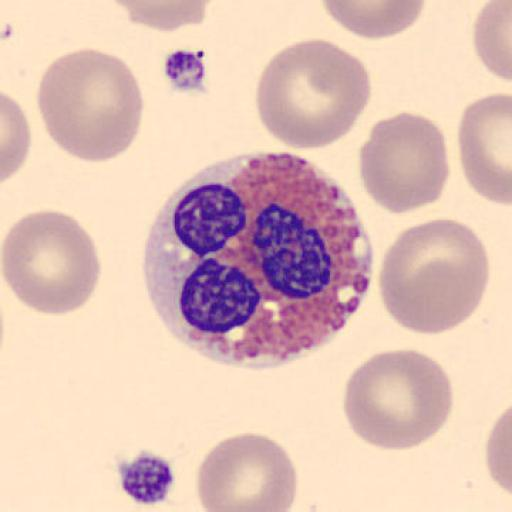Platelet: (114, 448, 178, 508), (158, 44, 212, 96)
RBC: (378, 216, 492, 336), (253, 38, 373, 151), (36, 46, 145, 164), (341, 348, 454, 452), (0, 208, 102, 318), (358, 109, 450, 215), (195, 431, 299, 512), (456, 90, 512, 207), (320, 0, 428, 41), (105, 0, 215, 34), (472, 0, 512, 85), (1, 91, 32, 185), (485, 402, 512, 502)
WBC: (142, 156, 374, 370)
